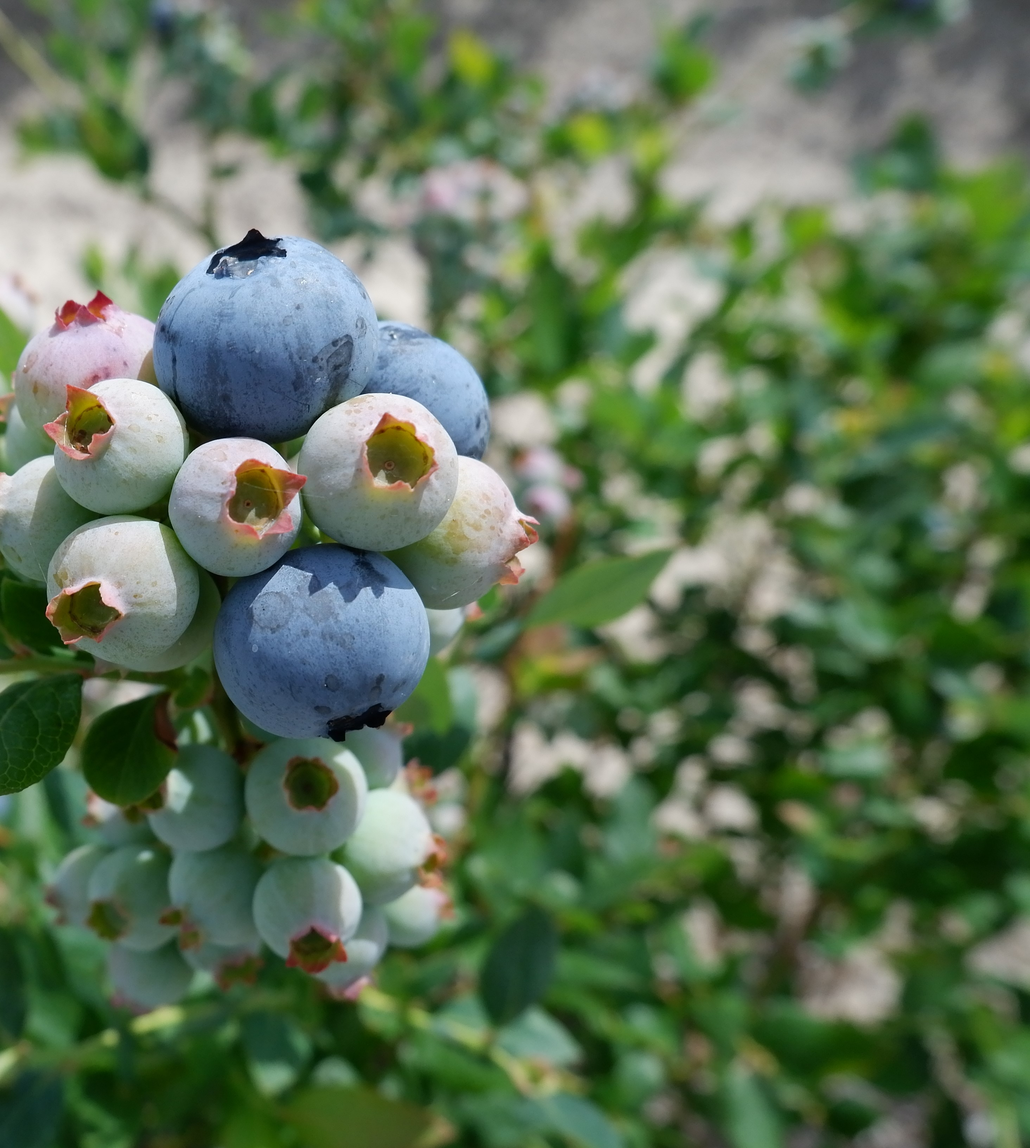Immature: (299, 398, 451, 549), (386, 458, 535, 609), (49, 522, 196, 664), (15, 295, 161, 424), (171, 439, 301, 574), (56, 379, 184, 510), (245, 744, 362, 855), (332, 794, 440, 903), (252, 860, 358, 969), (1, 459, 92, 578), (143, 747, 242, 851), (169, 840, 262, 945), (87, 849, 178, 948), (134, 574, 217, 671), (321, 905, 385, 996), (107, 944, 191, 1013), (1, 371, 55, 473), (49, 848, 108, 925), (183, 930, 261, 988), (385, 880, 451, 945), (344, 725, 405, 790), (88, 796, 153, 847)
Mature: (152, 234, 377, 440), (214, 548, 424, 736), (357, 326, 483, 456)
